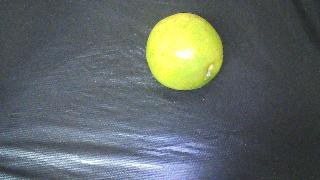LOCAL: (146, 13, 223, 90)
